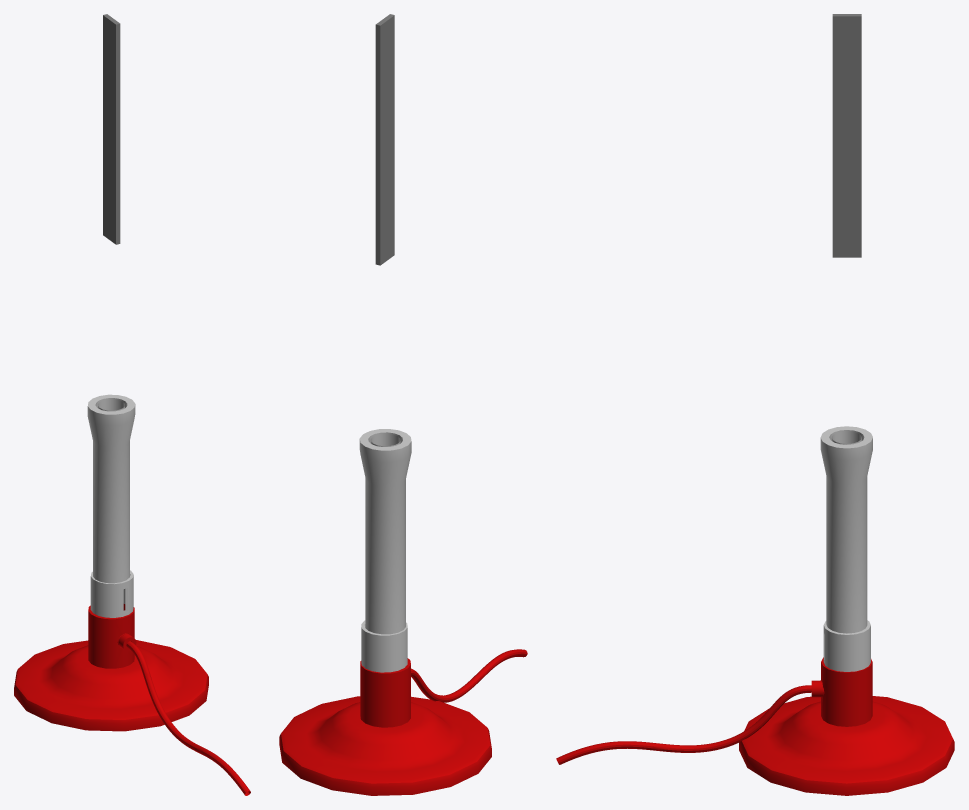
The model's file is Bunsen Burner.fbx.
3 views of the same model, side by side, from view 1: azimuth 30°, elevation 25°; view 2: azimuth 150°, elevation 25°; view 3: azimuth 270°, elevation 25° (orthographic). The views are drawn at different scales.
Visible parts, largest first — view 1: Bunsen_Burner, Magnsium_strip; view 2: Bunsen_Burner, Magnsium_strip; view 3: Bunsen_Burner, Magnsium_strip.
Part boxes in pixels (x1,y1,x2,y2): Bunsen_Burner: (14,394,250,795); Magnsium_strip: (103,14,120,244); Bunsen_Burner: (279,429,527,795); Magnsium_strip: (375,14,394,265); Bunsen_Burner: (556,426,954,795); Magnsium_strip: (832,14,861,257).
Size of the model in its own units: 17.13 by 65.52 by 31.64.
